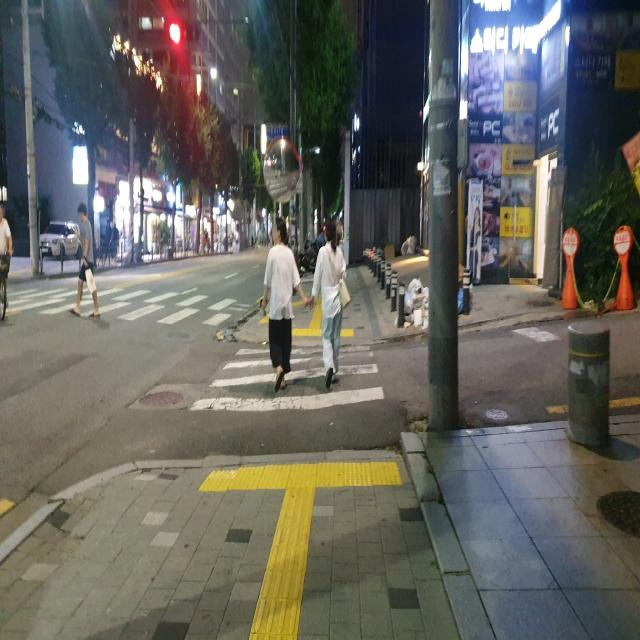횡단보도: (189, 342, 385, 418), (0, 288, 241, 327)
